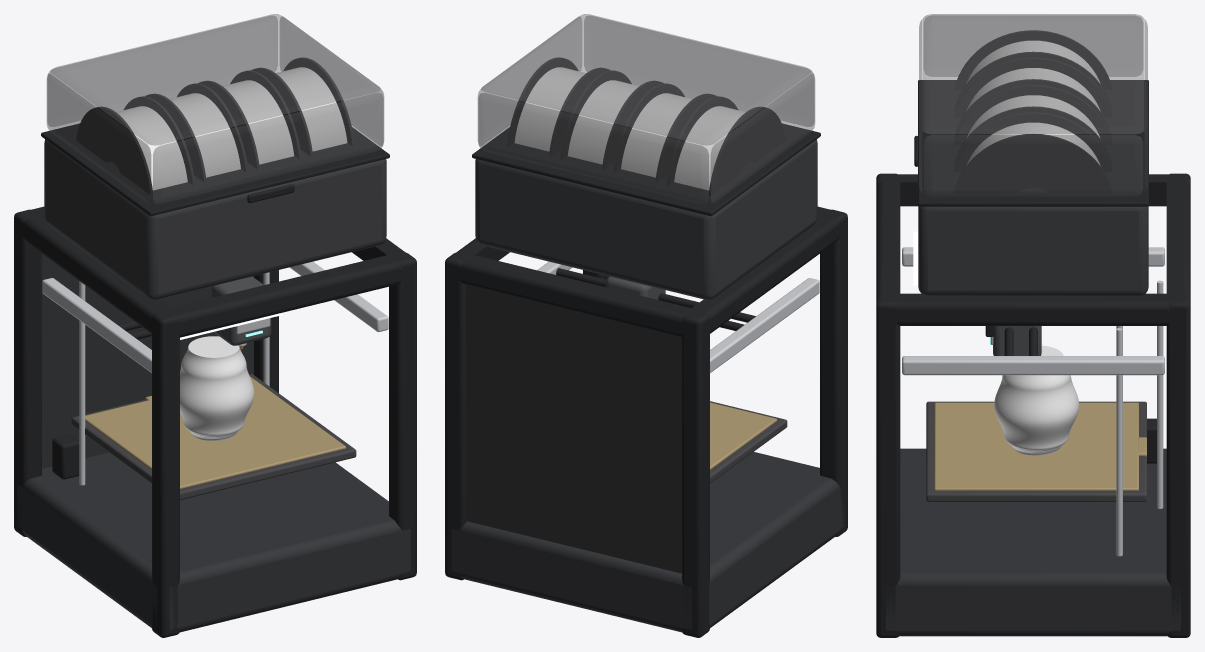
The model's file is openFrame.glb.
3 views of the same model, side by side, from view 1: azimuth 30°, elevation 25°; view 2: azimuth 150°, elevation 25°; view 3: azimuth 270°, elevation 25° (orthographic). The views are drawn at different scales.
Visible parts, largest first — view 1: AMSLid, Base, AMSTub, TopRing, BackPanel, Plate, Post, AMSBand, Post.002, Post.001, BedFrame, Flange_0_L (+18 smaller); view 2: BackPanel, AMSLid, Base, AMSTub, TopRing, Post.001, AMSBand, Post, Post.003, Flange_0_L, Filament_2, Filament_3 (+14 smaller); view 3: AMSLid, Base, AMSTub, TopRing, Plate, AMSBand, Post.002, Post.003, Flange_3_R, YRail.001, BedFrame, Flange_2_L (+15 smaller).
Part boxes in pixels (<box>): AMSLid: <box>47,14,383,203</box>; Base: <box>17,452,410,632</box>; AMSTub: <box>44,139,386,299</box>; TopRing: <box>21,206,413,337</box>; BackPanel: <box>42,254,253,468</box>; Plate: <box>85,376,346,488</box>; Post: <box>152,313,179,637</box>; AMSBand: <box>41,123,389,216</box>; Post.002: <box>389,252,416,580</box>; Post.001: <box>14,209,41,536</box>; BedFrame: <box>71,374,356,499</box>; Flange_0_L: <box>76,106,153,195</box>; BackPanel: <box>466,285,681,573</box>; AMSLid: <box>478,14,814,203</box>; Base: <box>451,452,844,632</box>; AMSTub: <box>475,139,817,299</box>; TopRing: <box>452,206,844,337</box>; Post.001: <box>682,313,709,637</box>; AMSBand: <box>472,123,820,216</box>; Post: <box>820,209,847,536</box>; Post.003: <box>445,252,467,580</box>; Flange_0_L: <box>708,106,785,195</box>; Filament_2: <box>568,80,639,164</box>; Filament_3: <box>514,67,585,151</box>; AMSLid: <box>919,14,1147,196</box>; Base: <box>886,448,1180,636</box>; AMSTub: <box>918,206,1148,296</box>; TopRing: <box>876,174,1190,325</box>; Plate: <box>934,402,1138,490</box>; AMSBand: <box>918,80,1148,206</box>; Post.002: <box>876,295,900,637</box>; Post.003: <box>1166,295,1190,637</box>; Flange_3_R: <box>954,133,1112,193</box>; YRail.001: <box>902,356,1164,375</box>; BedFrame: <box>926,401,1146,501</box>; Flange_2_L: <box>954,85,1112,144</box>.
Size of the model in its own units: 0.386 by 0.686 by 0.389.
